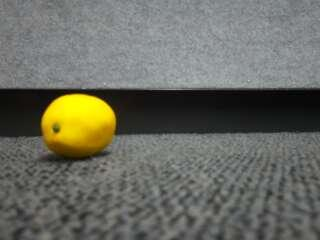lemon: (39, 95, 114, 160)
